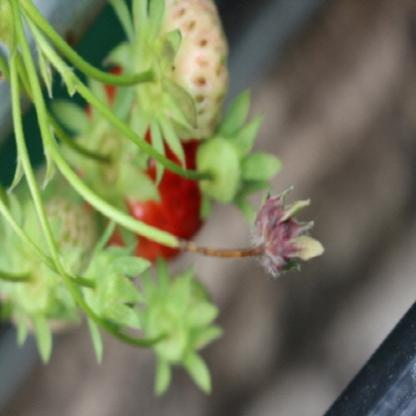Strawberry_Gray_Mold: (244, 184, 326, 276)
